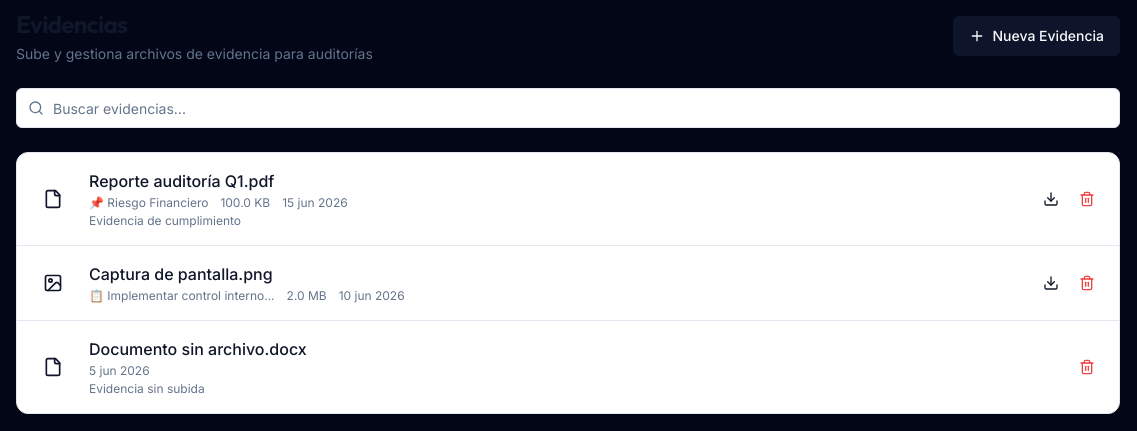
Test case: EvidencesPage › Search › should filter evidences by search input
Expected: the text "Reporte auditoría Q1.pdf" is shown, [89, 171, 274, 191]
Type "pantalla" into the field with placeholder "Buscar evidencias..." at (568, 108), box [16, 88, 1120, 128]
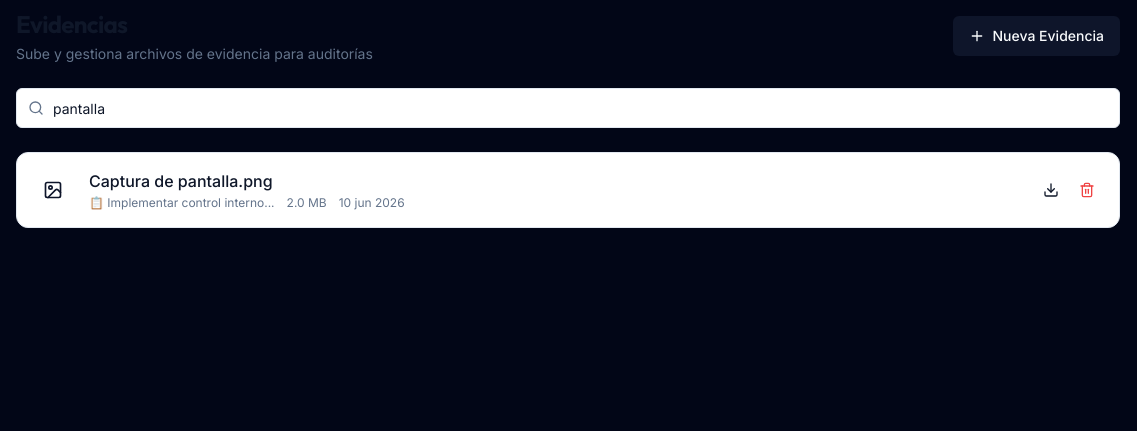
Expected: the text "Captura de pantalla.png" is shown, [89, 171, 273, 191]
Now the text "Reporte auditoría Q1.pdf" is gone
